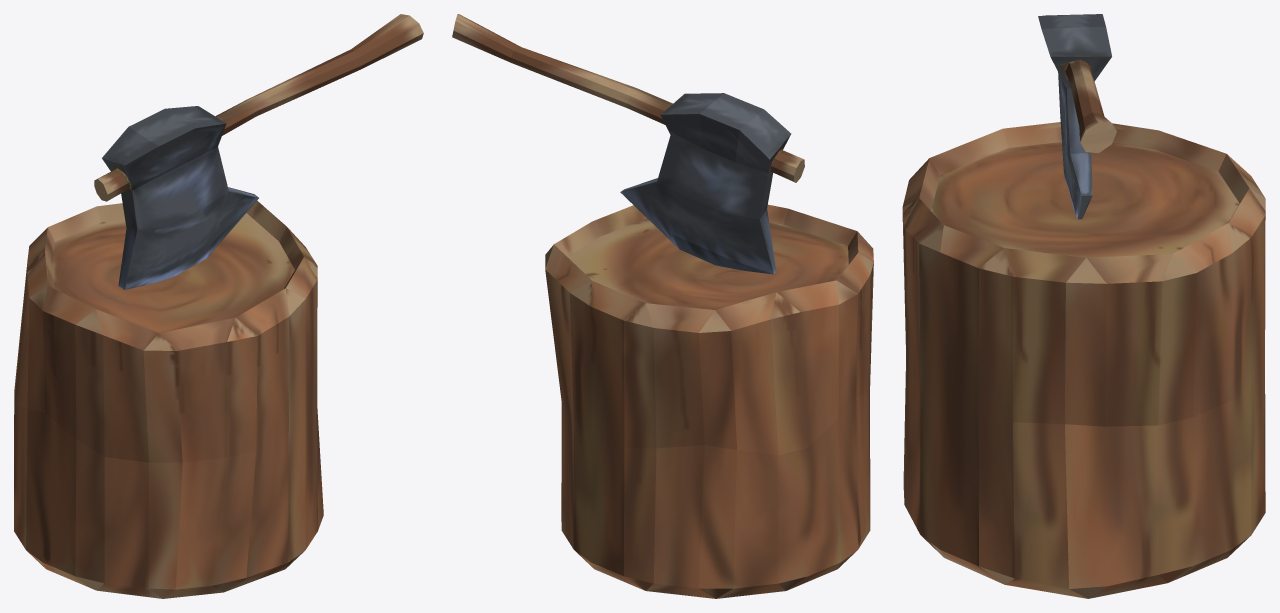
File: wood-axe.obj
3 views of the same model, side by side, from view 1: azimuth 30°, elevation 25°; view 2: azimuth 150°, elevation 25°; view 3: azimuth 270°, elevation 25° (orthographic). The views are drawn at different scales.
Parts seen in each view (by area): view 1: wood-axe; view 2: wood-axe; view 3: wood-axe.
Part boxes in pixels (left/top/right/bottom): wood-axe: left=14, top=14, right=423, bottom=598; wood-axe: left=452, top=14, right=873, bottom=598; wood-axe: left=902, top=14, right=1265, bottom=598.
Bounding box in the file's own units: 0.8718 × 0.9888 × 0.5975.
